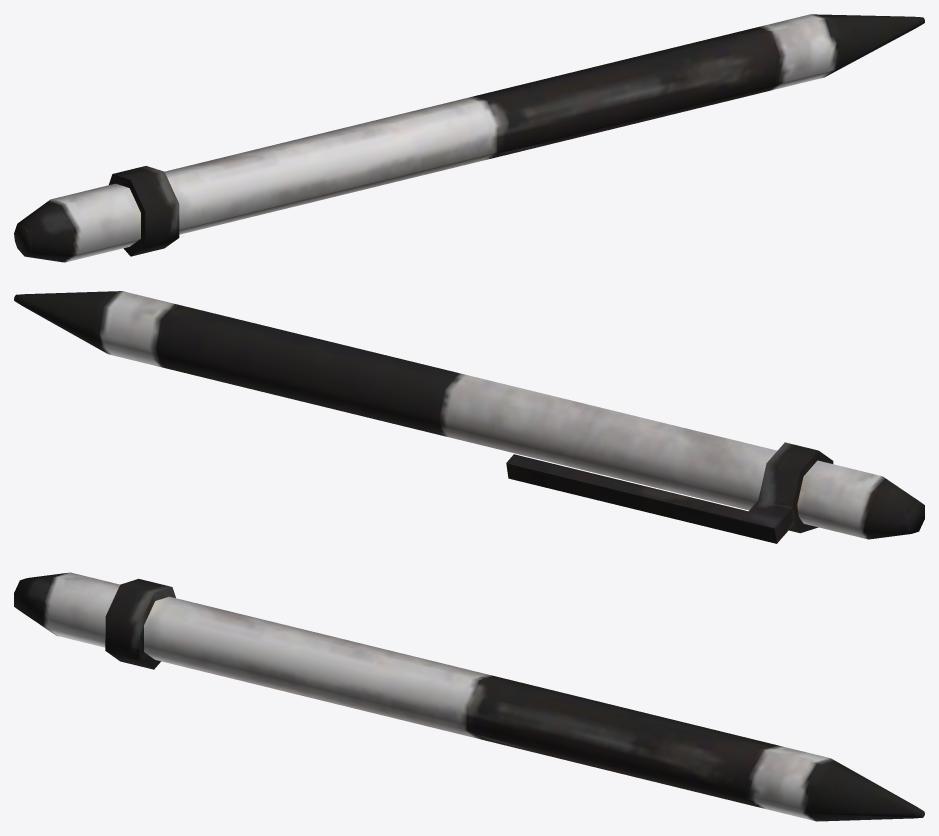
The model's file is pen.glb.
3 renders of one model, top to bottom at view 1: azimuth 30°, elevation 25°; view 2: azimuth 150°, elevation 25°; view 3: azimuth 330°, elevation 25°, orthographic.
Parts seen in each view (by area): view 1: Pen; view 2: Pen; view 3: Pen.
Boxes of the visible parts, x1,y1,x2,y2 form: Pen: (14, 14, 924, 262); Pen: (14, 291, 924, 543); Pen: (14, 572, 924, 821).
Bounding box in the file's own units: 0.2804 × 0.0229 × 0.0317.
1 material, 1 textured.
